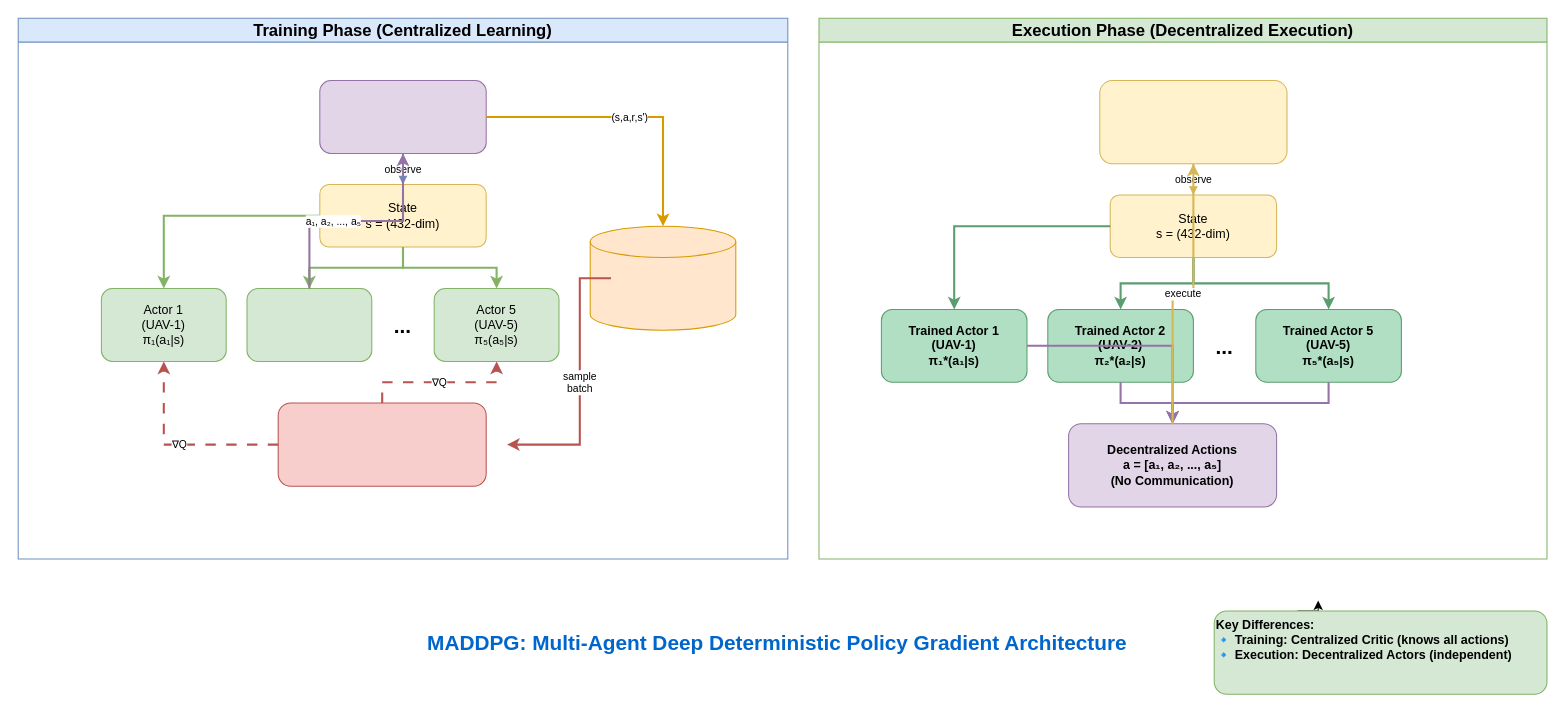
Some shapes in this 1565 by 712 pixel diagram are drawn without their labels. The shapes that lost their labels are listed below. From the top down, each one's centre as x and y in pixels, then its label:
[402,116]: Environment (Simulator)
[1193,122]: Real Environment (Multi-UAV System)
[662,277]: Replay Buffer (s, a₁...a₅, r, s')
[309,324]: Actor 2 (UAV-2) π₂(a₂|s)
[381,444]: Centralized Critic Q(s, a₁, a₂, ..., a₅) (Has All Actions)
